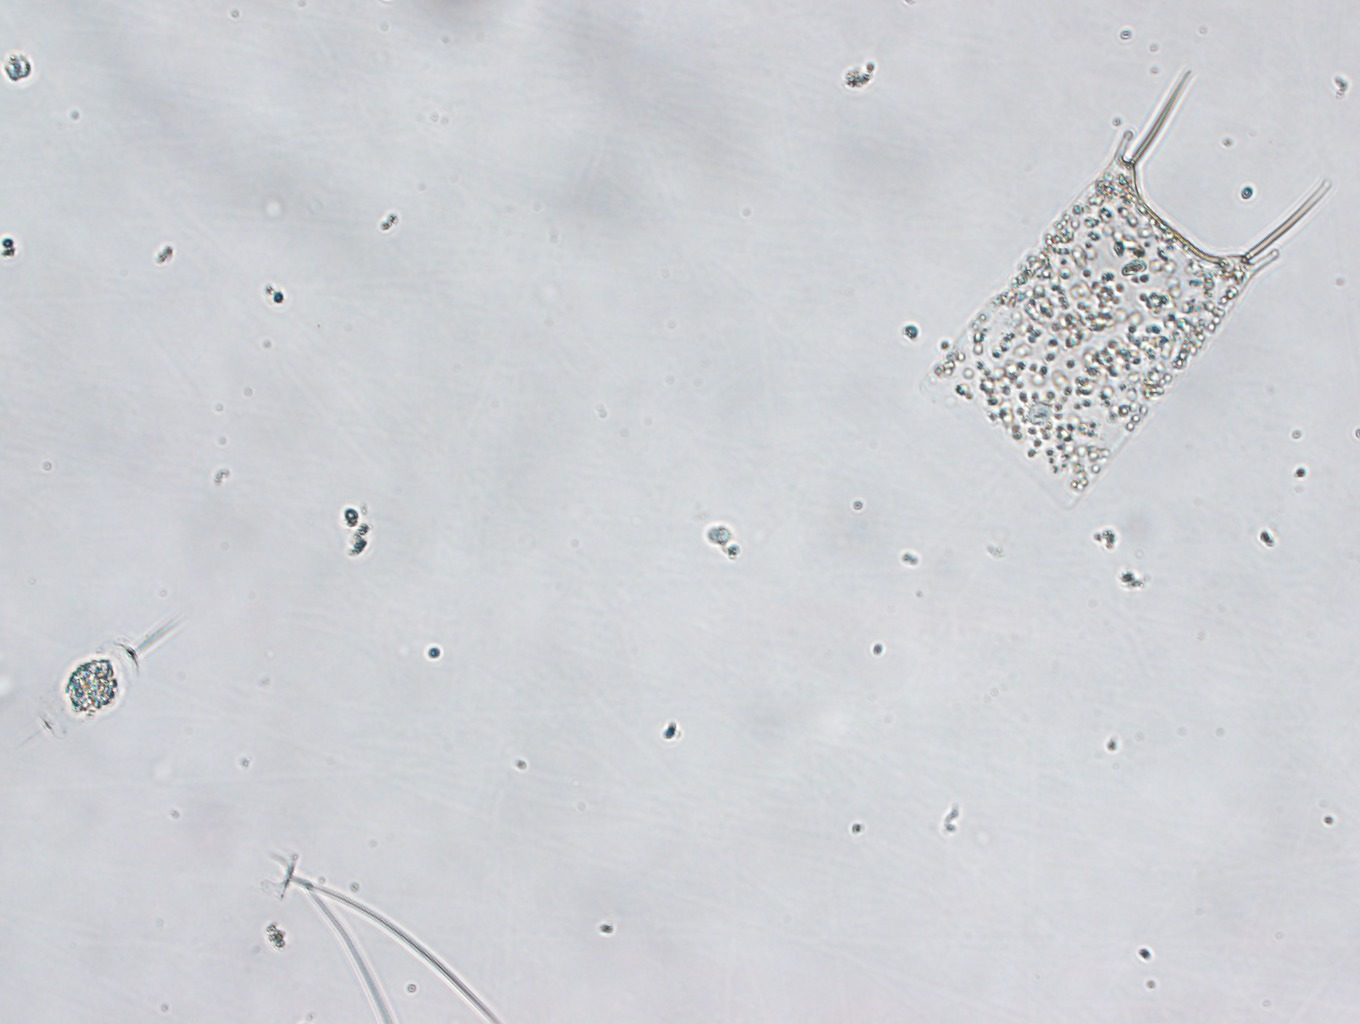biddulphia: (918, 63, 1330, 512)
ditylum: (8, 607, 189, 759)
